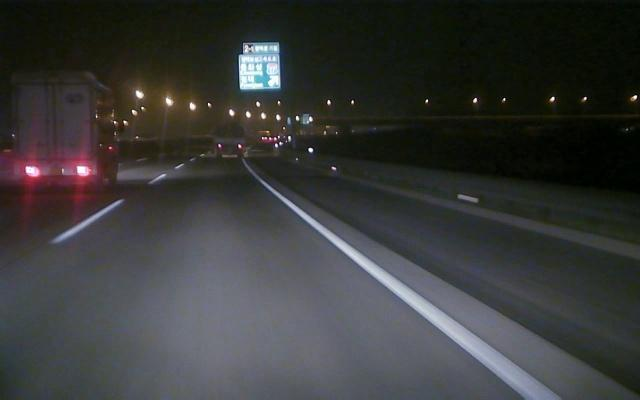lane: (264, 183, 560, 397), (24, 204, 118, 252)
